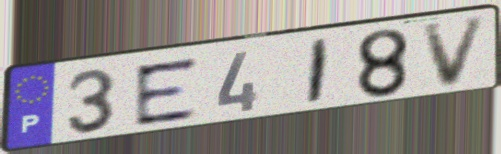3: (65, 65, 122, 137)
4: (215, 49, 261, 114)
8: (355, 27, 411, 100)
E: (131, 54, 200, 129)
I: (304, 35, 334, 108)
V: (419, 13, 492, 92)
